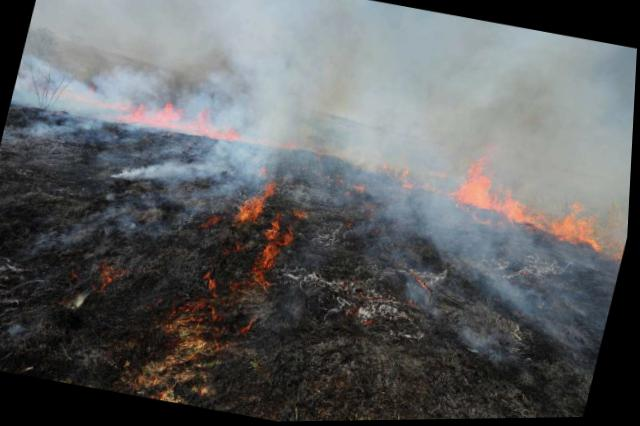fire: (195, 162, 308, 347), (444, 149, 623, 251), (44, 79, 258, 151)
